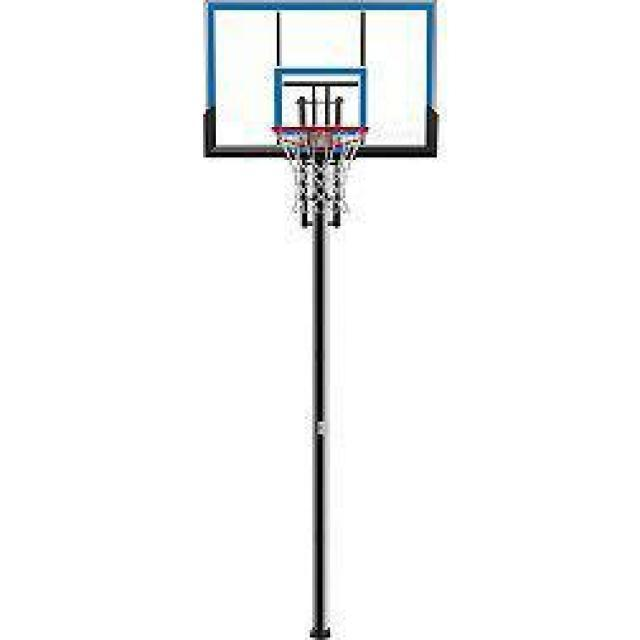hoop: (269, 124, 367, 214)
